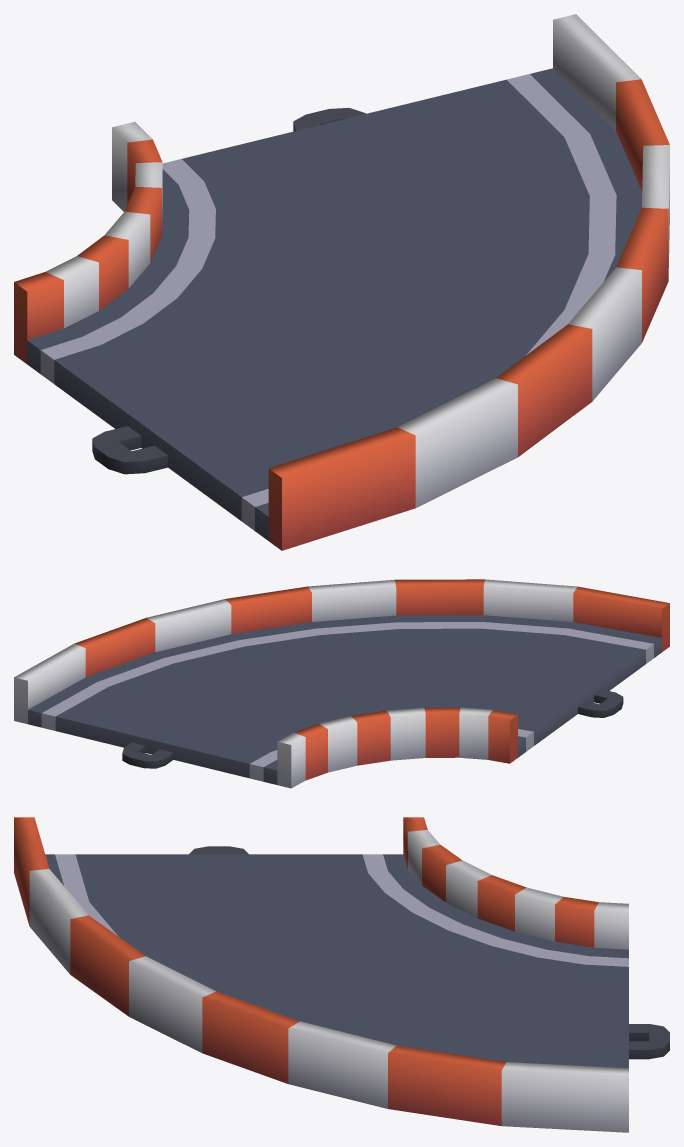
The model's file is track-road-wide-corner-small.glb.
3 views of the same model, one above another, from view 1: azimuth 30°, elevation 25°; view 2: azimuth 150°, elevation 25°; view 3: azimuth 270°, elevation 25° (orthographic). The views are drawn at different scales.
Visible parts, largest first — view 1: track-road-wide-corner-small; view 2: track-road-wide-corner-small; view 3: track-road-wide-corner-small.
Part boxes in pixels (left/top/right/bottom): track-road-wide-corner-small: left=14, top=14, right=669, bottom=550; track-road-wide-corner-small: left=14, top=579, right=669, bottom=788; track-road-wide-corner-small: left=14, top=817, right=669, bottom=1132.
Bounding box in the file's own units: 3.2 × 0.3 × 3.2.
